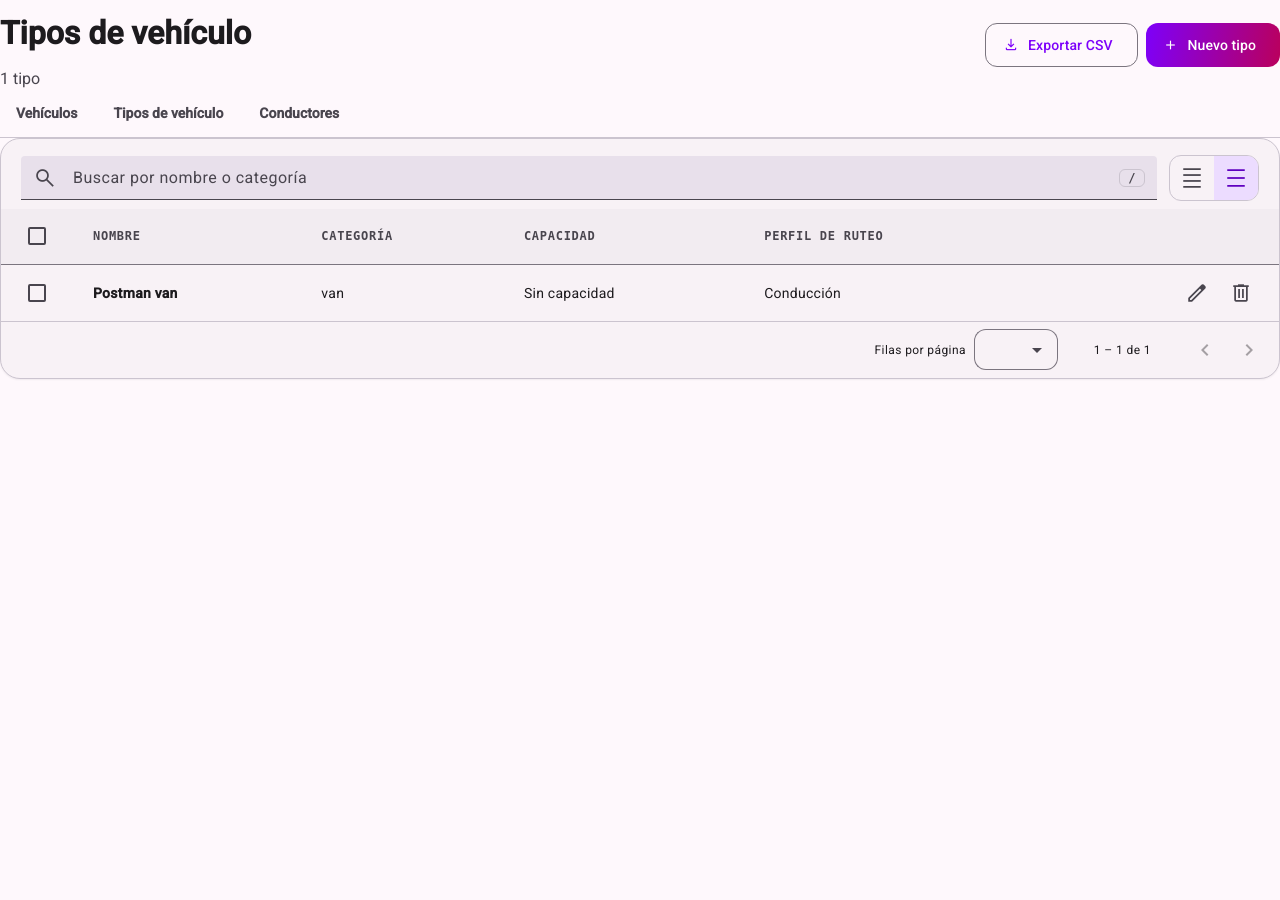
Test case: ResourceTypeListComponent › borrado › con vehículos de ese tipo (409) explica por qué no se puede y no recarga
Click the button named "Eliminar tipo Postman van".
click(1241, 293)  # box [1219,271,1263,315]
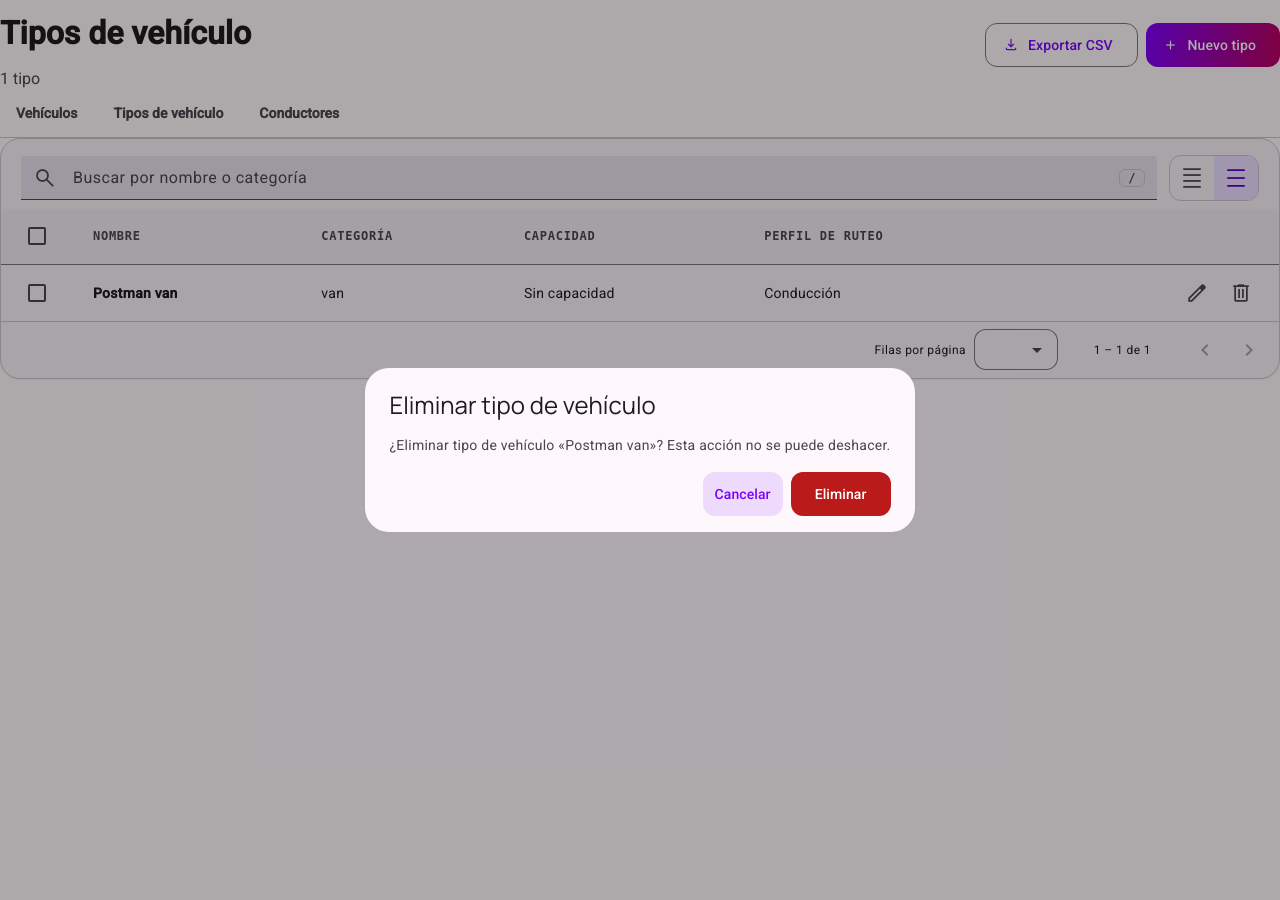
Click the button "Eliminar".
click(841, 494)  # box [791,472,891,516]
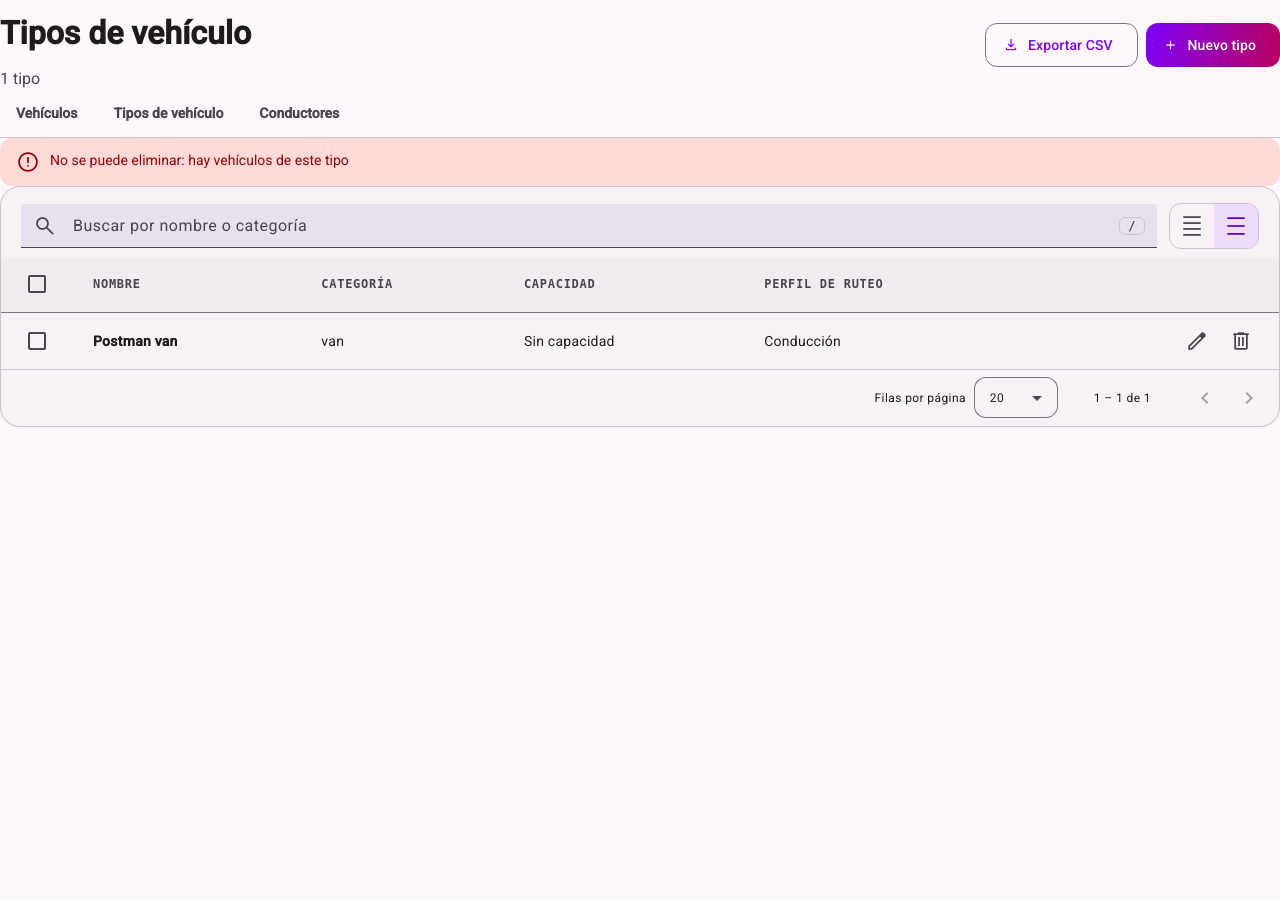
Expected: the text "Postman van" is shown, [77,313,305,369]
Result: the message "No se puede eliminar: hay vehículos de este tipo" is shown at [0,138,1279,186]
